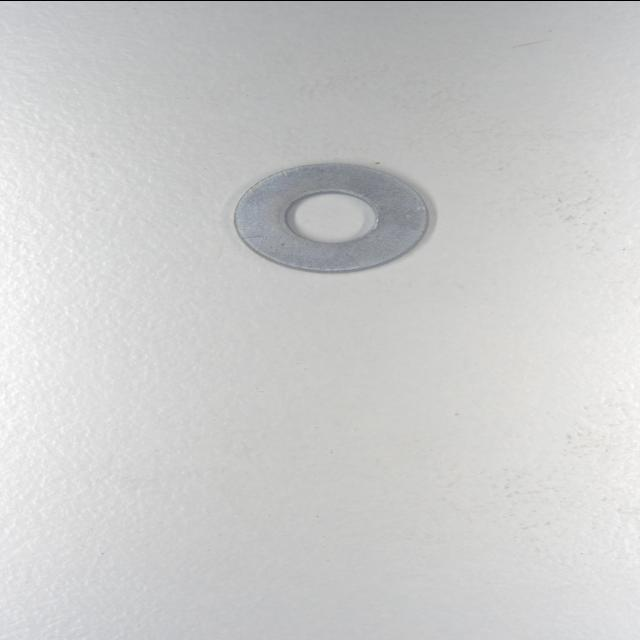washer: (229, 159, 432, 273)
